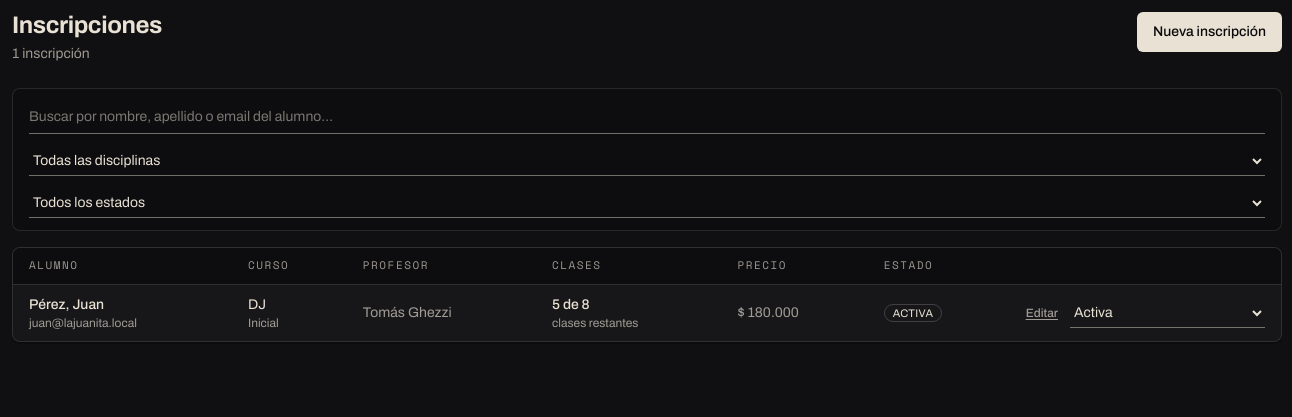
estados vacíos y de error › un estado rechazado por el backend muestra el motivo
The image size is (1292, 417).
Select "Completada" in the dropdown named "Cambiar estado de la inscripción". click: (1168, 313)
box: [1070, 298, 1265, 328]
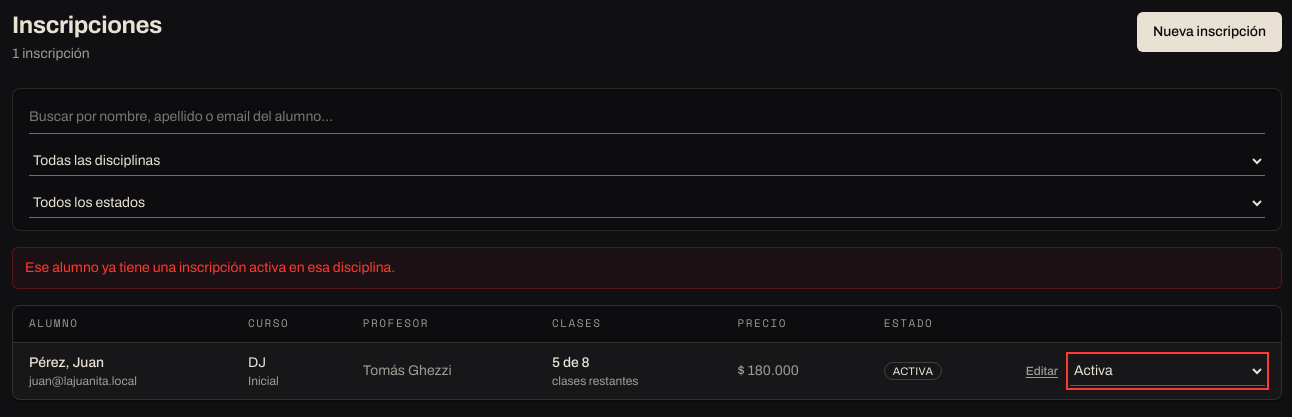
Expected: the text "Ese alumno ya tiene una inscripción activa en esa disciplina." is shown, [12, 247, 1282, 289]
